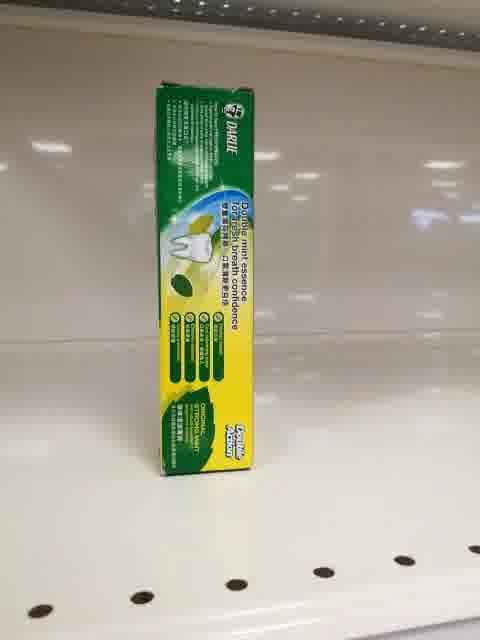toothpaste: (153, 81, 255, 475)
